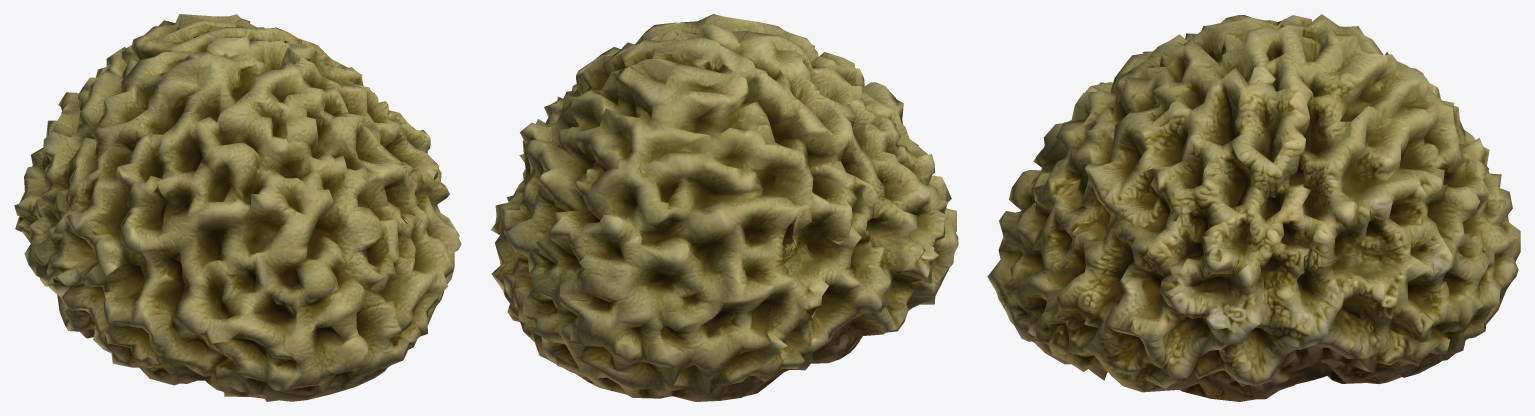
File: coral-brain.glb
The picture shows the model from 3 angles, left to right: view 1: azimuth 30°, elevation 25°; view 2: azimuth 150°, elevation 25°; view 3: azimuth 270°, elevation 25°; orthographic projection. The views are drawn at different scales.
Parts seen in each view (by area): view 1: tripo_node_2a94b9f3-c16d-4735-a826-5837bbc9c827; view 2: tripo_node_2a94b9f3-c16d-4735-a826-5837bbc9c827; view 3: tripo_node_2a94b9f3-c16d-4735-a826-5837bbc9c827.
Boxes of the visible parts, x1=… form: tripo_node_2a94b9f3-c16d-4735-a826-5837bbc9c827: x1=14, y1=14, x2=461, y2=401; tripo_node_2a94b9f3-c16d-4735-a826-5837bbc9c827: x1=490, y1=14, x2=958, y2=401; tripo_node_2a94b9f3-c16d-4735-a826-5837bbc9c827: x1=987, y1=14, x2=1520, y2=401.
Size of the model in its own units: 0.8958 by 0.6669 by 1.
1 material, 1 textured.
